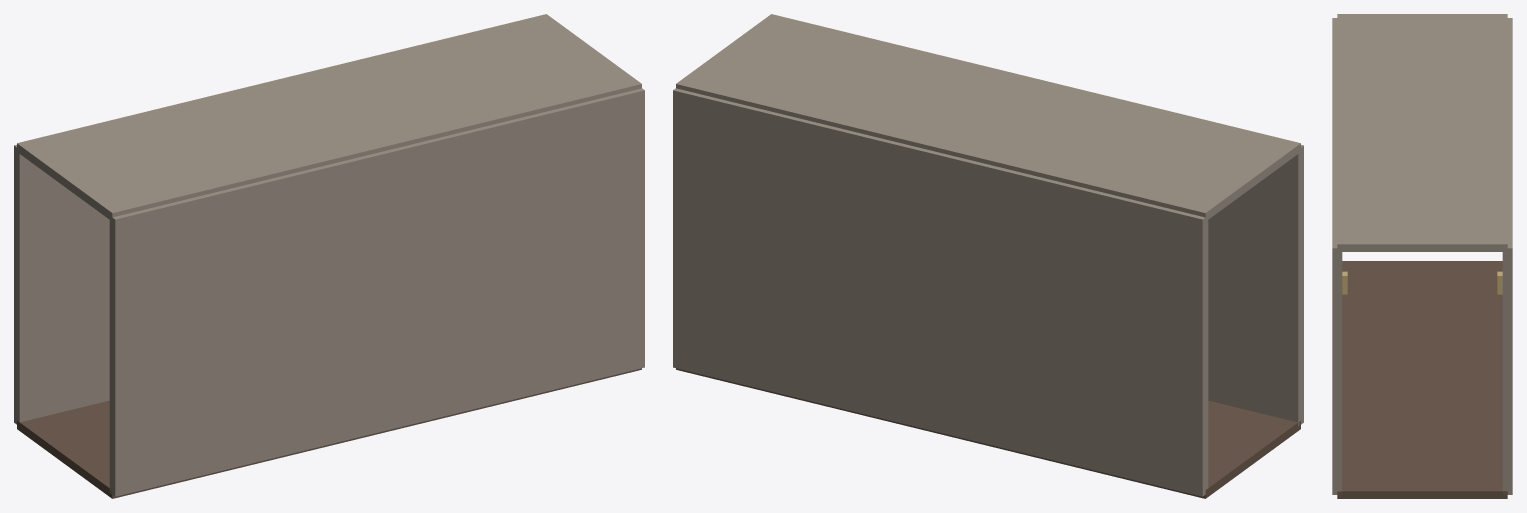
File: hallway_straight.fbx
3 views of the same model, side by side, from view 1: azimuth 30°, elevation 25°; view 2: azimuth 150°, elevation 25°; view 3: azimuth 270°, elevation 25° (orthographic). The views are drawn at different scales.
Parts seen in each view (by area): view 1: Wall_Left, Ceiling, Wall_Right, Floor; view 2: Wall_Right, Ceiling, Wall_Left, Floor; view 3: Ceiling, Floor, Wall_Right, Wall_Left.
Part boxes in pixels (left/top/right/bottom): Wall_Left: left=109, top=88, right=644, bottom=496; Ceiling: left=17, top=14, right=641, bottom=221; Wall_Right: left=14, top=145, right=109, bottom=424; Floor: left=17, top=368, right=641, bottom=498; Wall_Right: left=673, top=88, right=1208, bottom=496; Ceiling: left=676, top=14, right=1300, bottom=221; Wall_Left: left=1208, top=145, right=1303, bottom=426; Floor: left=676, top=368, right=1300, bottom=498; Ceiling: left=1337, top=14, right=1507, bottom=251; Floor: left=1337, top=261, right=1507, bottom=498; Wall_Right: left=1502, top=18, right=1512, bottom=494; Wall_Left: left=1332, top=18, right=1342, bottom=494.
Size of the model in its own units: 32 by 16.5 by 10.6.
